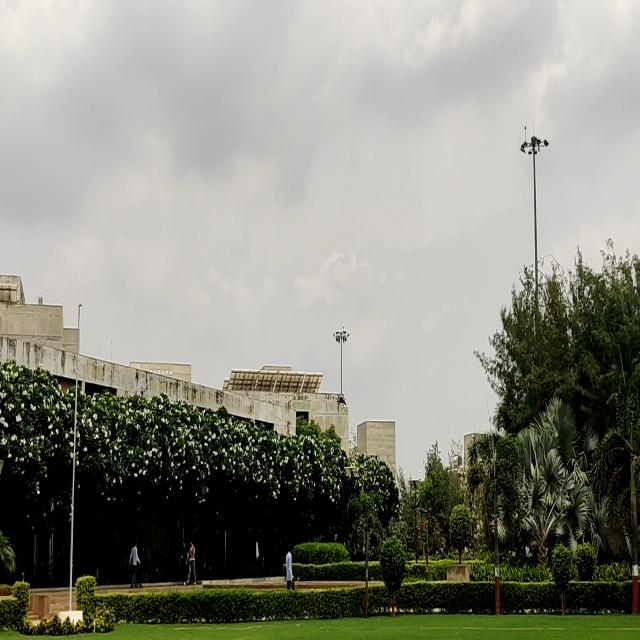drone: (332, 394, 349, 412)
